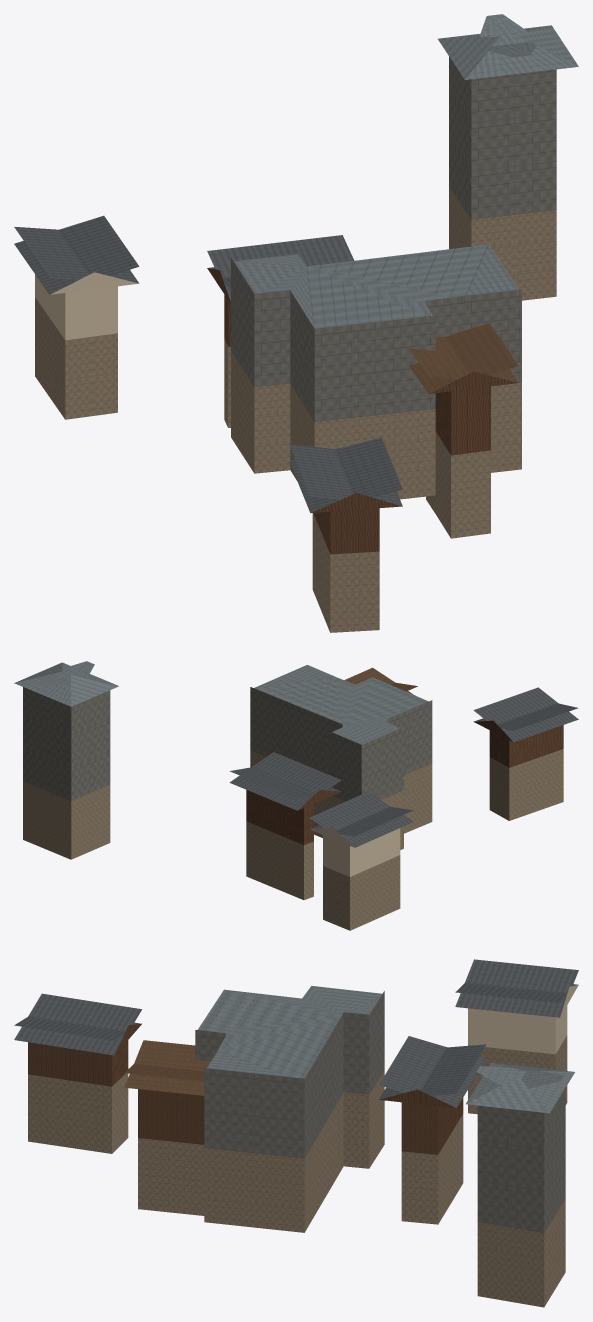
Rendered from bld_c9_26_407.gltf.
3 renders of one model, top to bottom at view 1: azimuth 30°, elevation 25°; view 2: azimuth 150°, elevation 25°; view 3: azimuth 270°, elevation 25°, orthographic. The views are drawn at different scales.
Parts seen in each view (by area): view 1: bld_c9_26_407; view 2: bld_c9_26_407; view 3: bld_c9_26_407.
Part boxes in pixels (x1,y1,x2,y2): bld_c9_26_407: [14, 14, 578, 632]; bld_c9_26_407: [14, 661, 578, 930]; bld_c9_26_407: [14, 959, 578, 1307].
Size of the model in its own units: 33.61 by 16.6 by 35.14.
10 materials, 10 textured.
